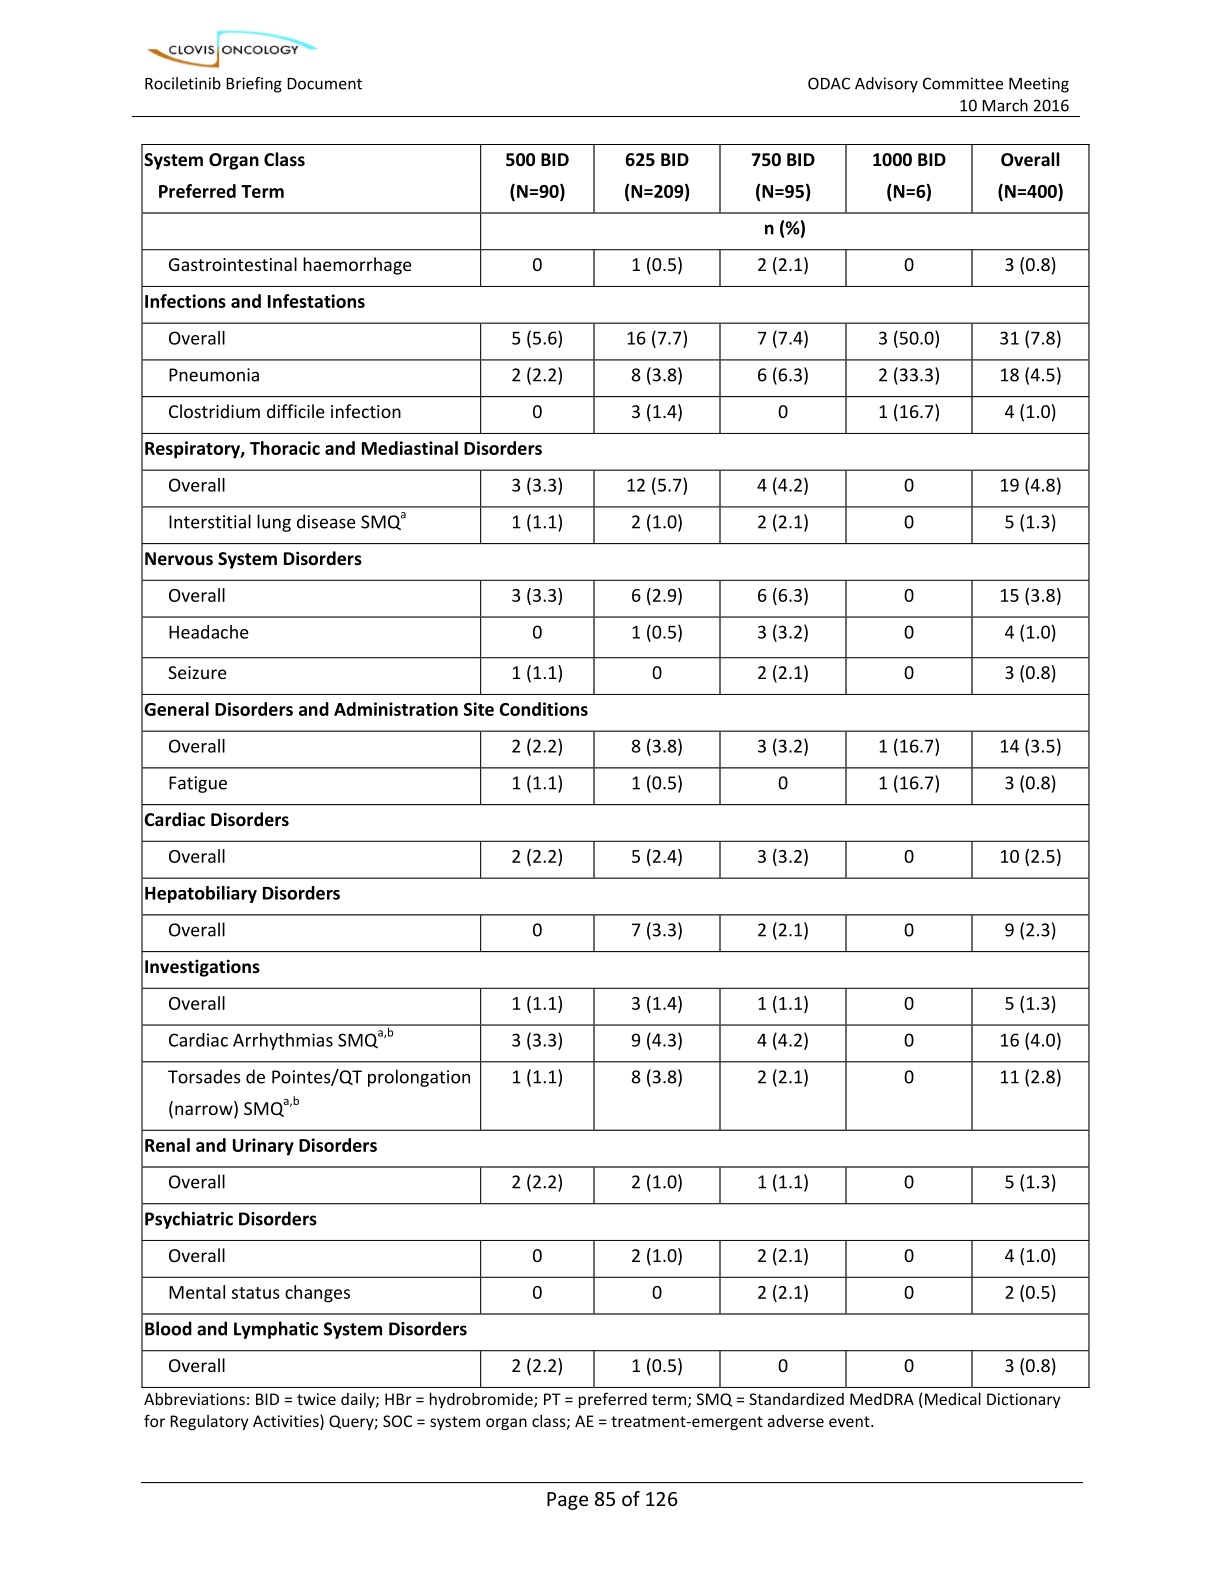merged_cells: (139, 143, 1092, 1389)
